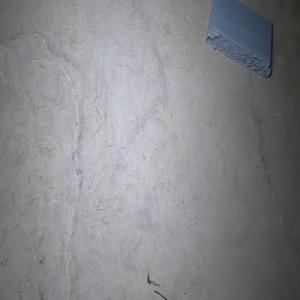PlasticPart: (204, 0, 272, 78)
